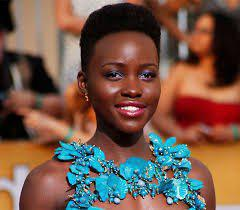Sober: (94, 39, 158, 125)
